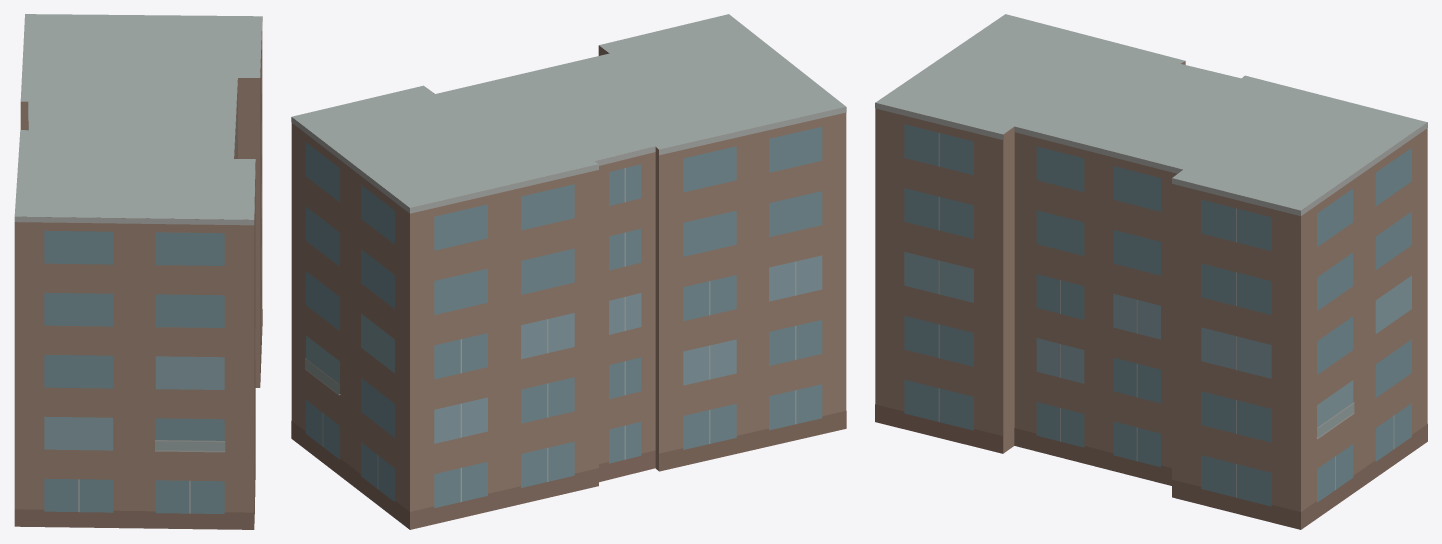
The model's file is survey-upis-32692660.glb.
3 views of the same model, side by side, from view 1: azimuth 30°, elevation 25°; view 2: azimuth 150°, elevation 25°; view 3: azimuth 270°, elevation 25° (orthographic). The views are drawn at different scales.
Visible parts, largest first — view 1: survey-upis-32692660.tmp; view 2: survey-upis-32692660.tmp; view 3: survey-upis-32692660.tmp.
Part boxes in pixels (x1,y1,x2,y2): survey-upis-32692660.tmp: (14,14,262,529); survey-upis-32692660.tmp: (291,14,846,529); survey-upis-32692660.tmp: (875,14,1427,529).
Size of the model in its own units: 18.23 by 13.8 by 21.65.
